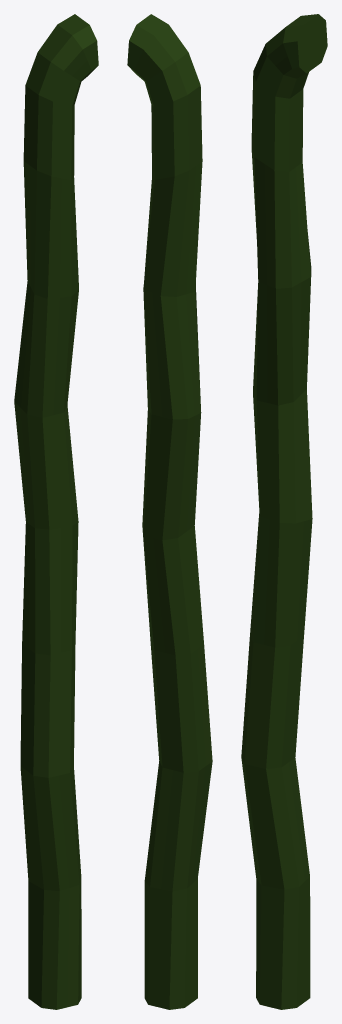
File: Daisy_Stem.fbx
3 views of the same model, side by side, from view 1: azimuth 30°, elevation 25°; view 2: azimuth 150°, elevation 25°; view 3: azimuth 330°, elevation 25° (orthographic).
Visible parts, largest first — view 1: Stem; view 2: Stem; view 3: Stem.
Part boxes in pixels (x1,y1,x2,y2): Stem: [14, 14, 98, 1009]; Stem: [127, 14, 212, 1009]; Stem: [241, 14, 327, 1009].
Bounding box in the file's own units: 83.31 × 1248 × 78.6.
